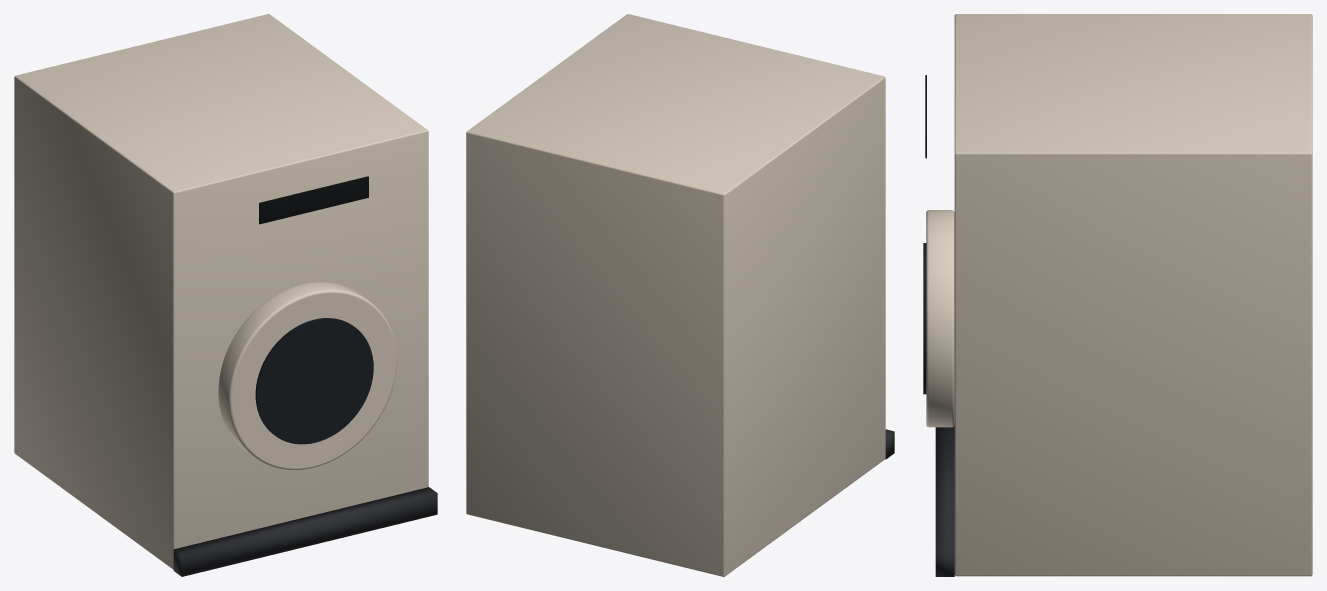
The picture shows the model from 3 angles, left to right: view 1: azimuth 30°, elevation 25°; view 2: azimuth 150°, elevation 25°; view 3: azimuth 270°, elevation 25°; orthographic projection. The views are drawn at different scales.
Parts seen in each view (by area): view 1: RD25ASR; view 2: RD25ASR; view 3: RD25ASR.
Part boxes in pixels (x1=…): RD25ASR: x1=14, y1=14, x2=437, y2=576; RD25ASR: x1=466, y1=14, x2=894, y2=576; RD25ASR: x1=923, y1=14, x2=1312, y2=576.
Size of the model in its own units: 0.7 by 0.99 by 0.824.
